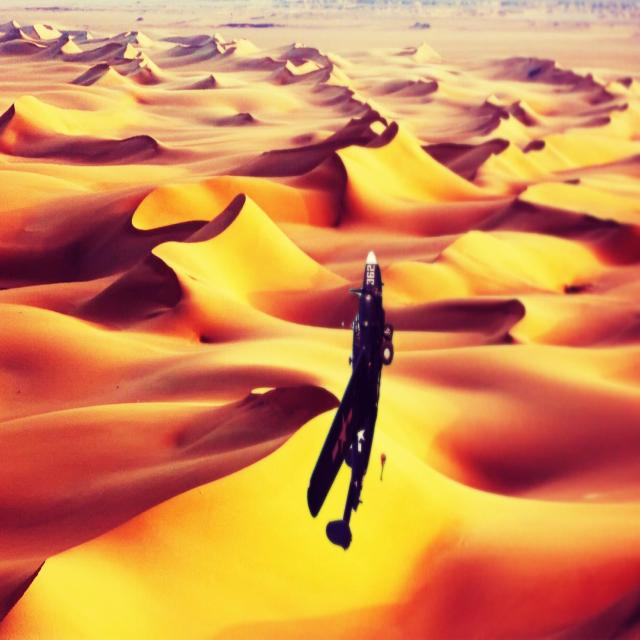airplane: (306, 249, 394, 550)
